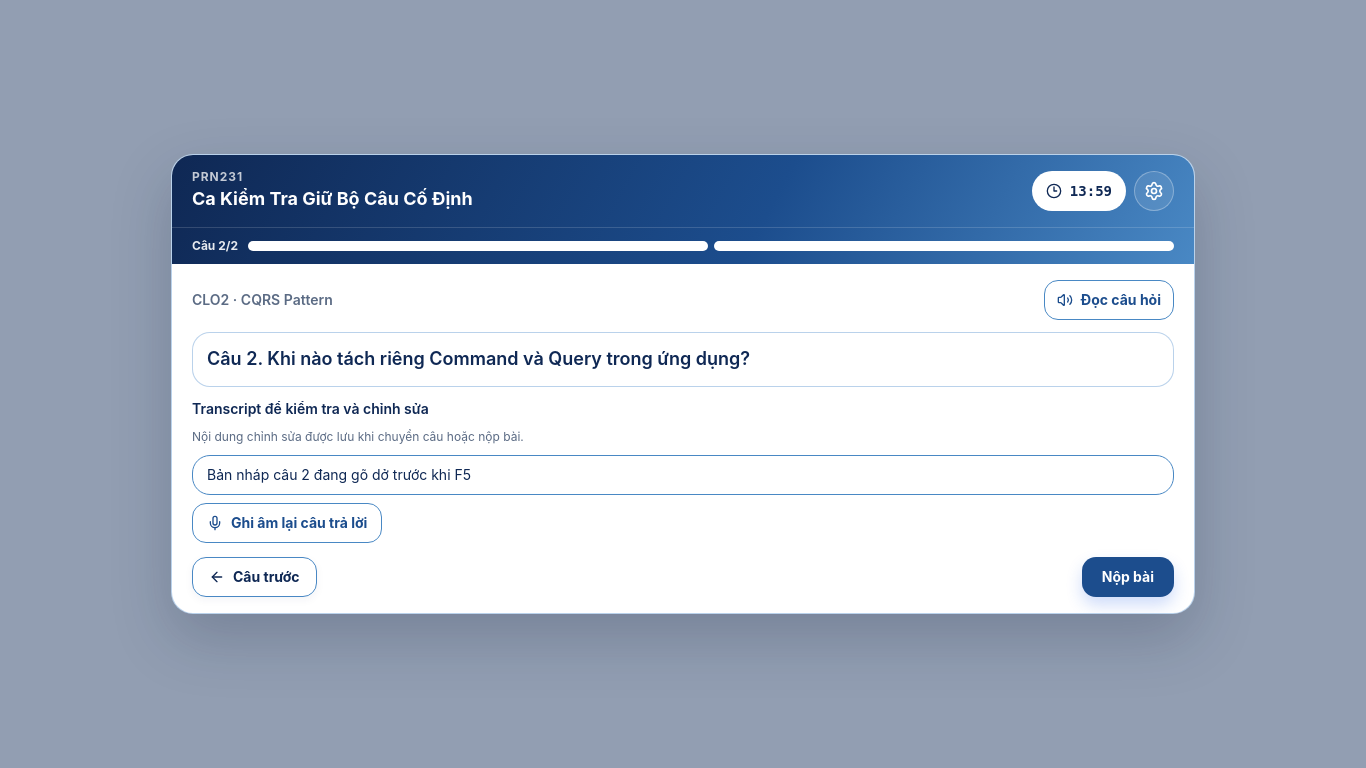
Test case: Student MF-05 Portal & Session Refresh Resilience (RC-3) › restores fixed BE-assigned questions, submitted state, and unsent local draft on F5 refresh without re-drawing
The width and height of the screenshot is (1366, 768).
expect the heading "Câu 2. Khi nào tách riêng Command và Query trong ứng dụng?" is shown: met, box [207,348,750,369]
expect the text box labelled "Transcript để kiểm tra và chỉnh sửa" holds "Bản nháp câu 2 đang gõ dở trước khi F5": met, box [192,455,1174,495]
Click the button "Câu trước" at (254, 577), box [192,557,317,597]
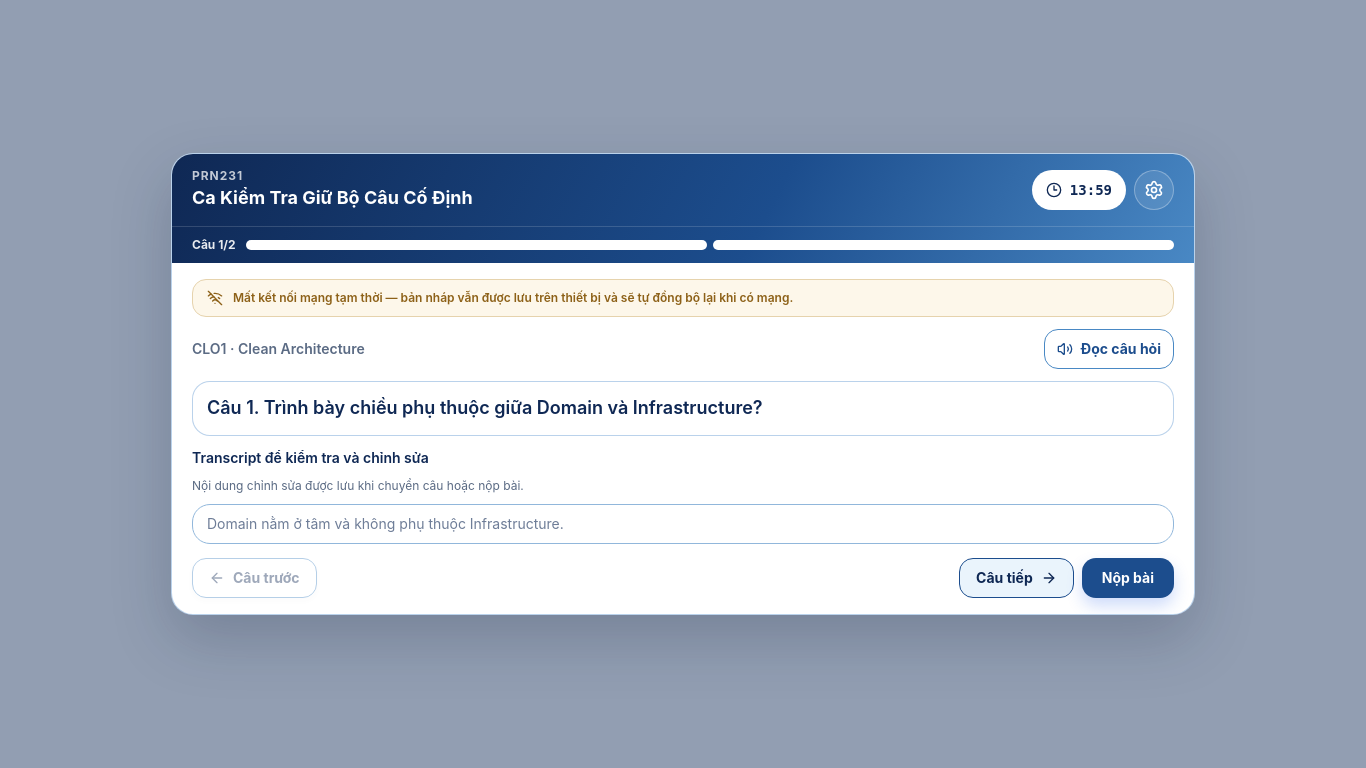
expect the heading "Trình bày chiều phụ thuộc giữa Domain và Infrastructure" is shown: met, box [264,397,763,418]
expect the text box labelled "Transcript để kiểm tra và chỉnh sửa" holds "Domain nằm ở tâm và không phụ thuộc Infrastructure.": met, box [192,504,1174,544]
expect the text box labelled "Transcript để kiểm tra và chỉnh sửa" is disabled: met, box [192,504,1174,544]
